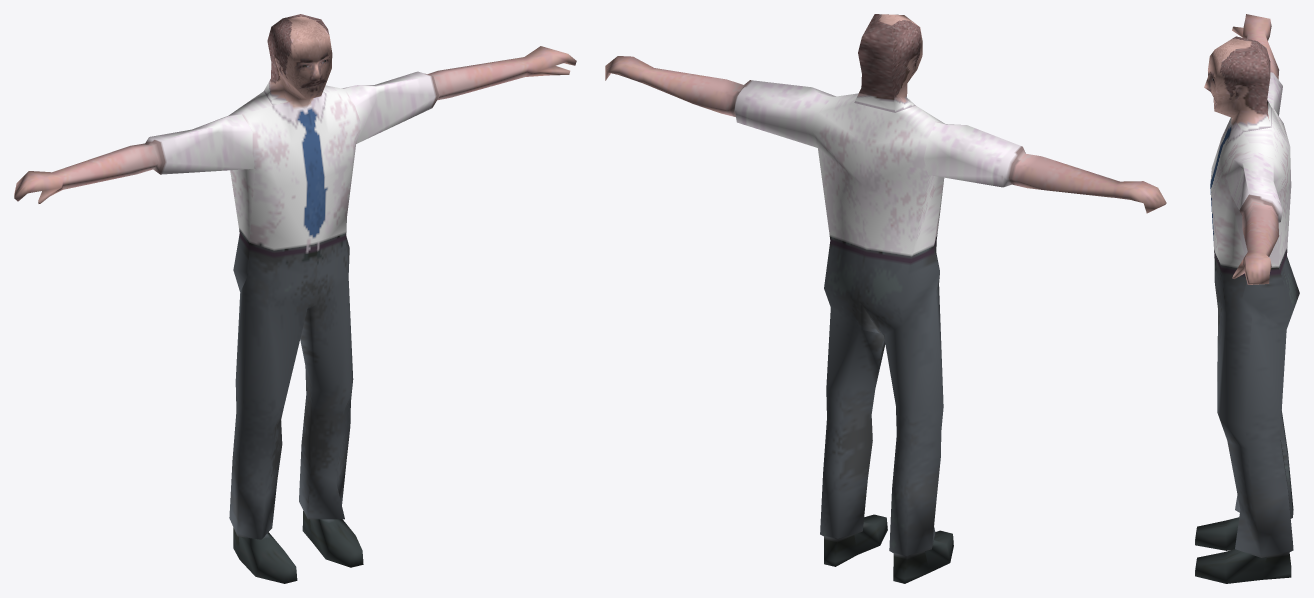
The model's file is SM_Character.fbx.
The picture shows the model from 3 angles, left to right: view 1: azimuth 30°, elevation 25°; view 2: azimuth 150°, elevation 25°; view 3: azimuth 270°, elevation 25°; orthographic projection. The views are drawn at different scales.
Visible parts, largest first — view 1: Character.001; view 2: Character.001; view 3: Character.001.
Boxes of the visible parts, x1=… form: Character.001: x1=14, y1=14, x2=576, y2=583; Character.001: x1=605, y1=14, x2=1166, y2=583; Character.001: x1=1195, y1=14, x2=1299, y2=583.
Size of the model in its own units: 36.32 by 198 by 216.
